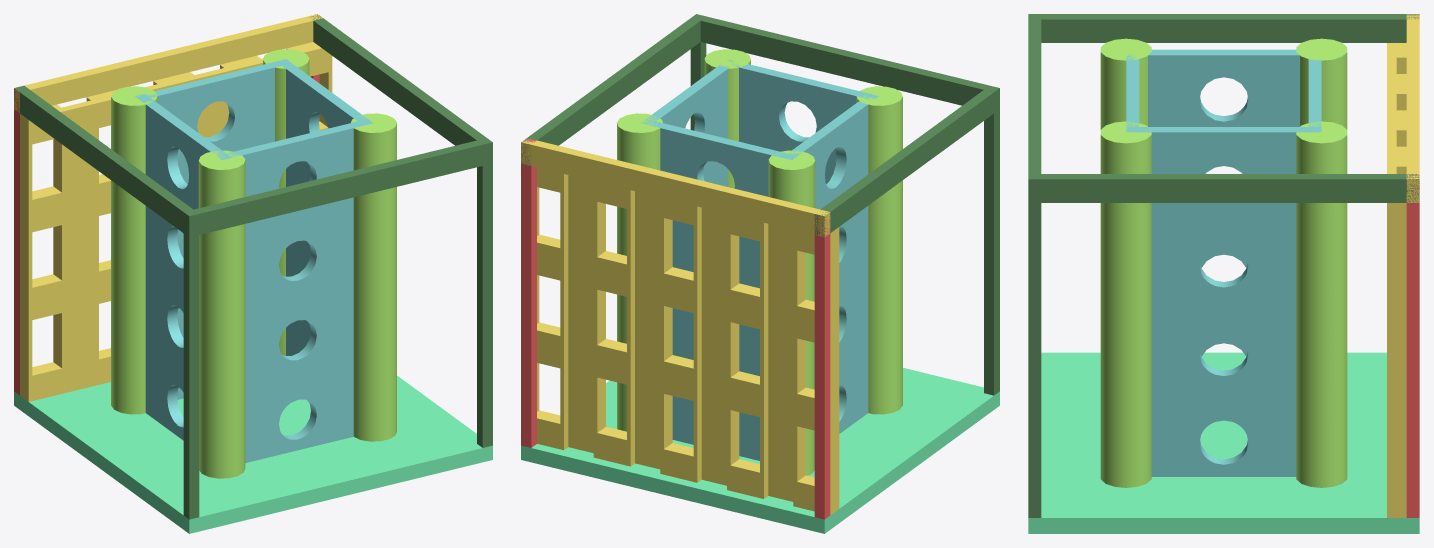
The picture shows the model from 3 angles, left to right: view 1: azimuth 30°, elevation 25°; view 2: azimuth 150°, elevation 25°; view 3: azimuth 270°, elevation 25°; orthographic projection. The views are drawn at different scales.
Visible parts, largest first — view 1: 物件_4, 物件_48, 物件_7, 物件_8, 物件_1, 物件_5, 物件_55, 物件_40, 物件_54, 物件_2, 物件_53, 物件_3 (+15 smaller); view 2: 物件_48, 物件_2, 物件_1, 物件_7, 物件_54, 物件_55, 物件_31, 物件_40, 物件_23, 物件_39, 物件_4, 物件_53 (+39 smaller); view 3: 物件_3, 物件_48, 物件_8, 物件_6, 物件_1, 物件_56, 物件_53, 物件_49, 物件_50, 物件_5, 物件_7, 物件_54 (+10 smaller).
Boxes of the visible parts, <box> form: 物件_4: <box>220,120,372,462</box>; 物件_48: <box>14,375,492,533</box>; 物件_7: <box>198,150,245,478</box>; 物件_8: <box>351,113,396,441</box>; 物件_1: <box>135,93,231,440</box>; 物件_5: <box>111,86,157,414</box>; 物件_55: <box>184,138,492,235</box>; 物件_40: <box>62,100,95,392</box>; 物件_54: <box>14,14,322,112</box>; 物件_2: <box>136,59,291,399</box>; 物件_53: <box>14,85,198,234</box>; 物件_3: <box>282,63,373,355</box>; 物件_48: <box>521,368,999,533</box>; 物件_2: <box>641,119,795,460</box>; 物件_1: <box>782,94,878,433</box>; 物件_7: <box>856,86,902,414</box>; 物件_54: <box>521,139,830,237</box>; 物件_55: <box>693,14,989,105</box>; 物件_31: <box>635,191,660,469</box>; 物件_40: <box>768,224,793,501</box>; 物件_23: <box>568,175,593,453</box>; 物件_39: <box>701,207,726,485</box>; 物件_4: <box>729,59,878,184</box>; 物件_53: <box>814,86,999,236</box>; 物件_3: <box>1126,127,1321,476</box>; 物件_48: <box>1028,352,1419,533</box>; 物件_8: <box>1100,121,1151,487</box>; 物件_6: <box>1296,121,1347,487</box>; 物件_1: <box>1148,49,1299,356</box>; 物件_56: <box>1028,174,1419,202</box>; 物件_53: <box>1028,14,1419,42</box>; 物件_49: <box>1028,174,1041,517</box>; 物件_50: <box>1406,174,1419,517</box>; 物件_5: <box>1296,38,1347,129</box>; 物件_7: <box>1100,38,1151,129</box>; 物件_54: <box>1406,14,1419,202</box>.
Bounding box in the file's own units: 48 × 48.81 × 48.
